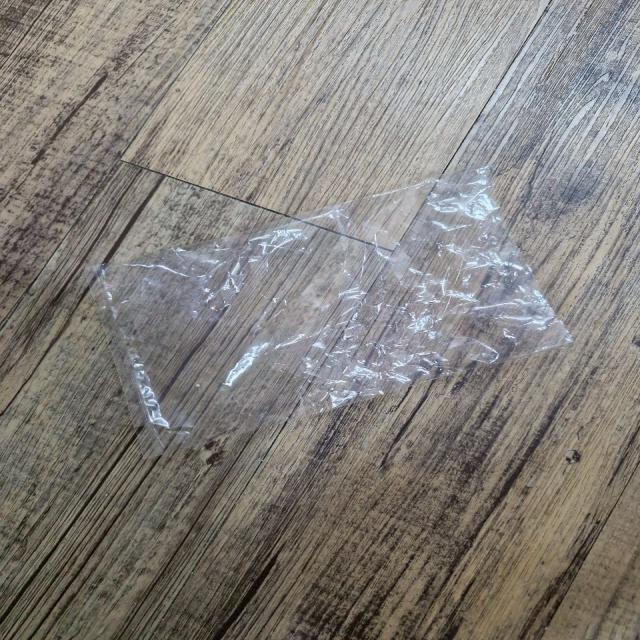plastic bag: (46, 163, 586, 451)
